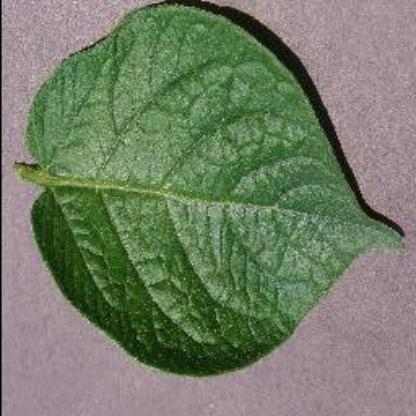Healthy-plant: (15, 0, 409, 378)
